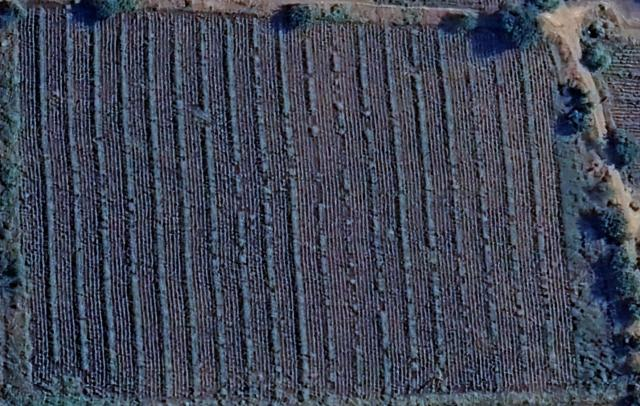Farms: (18, 4, 597, 406)
